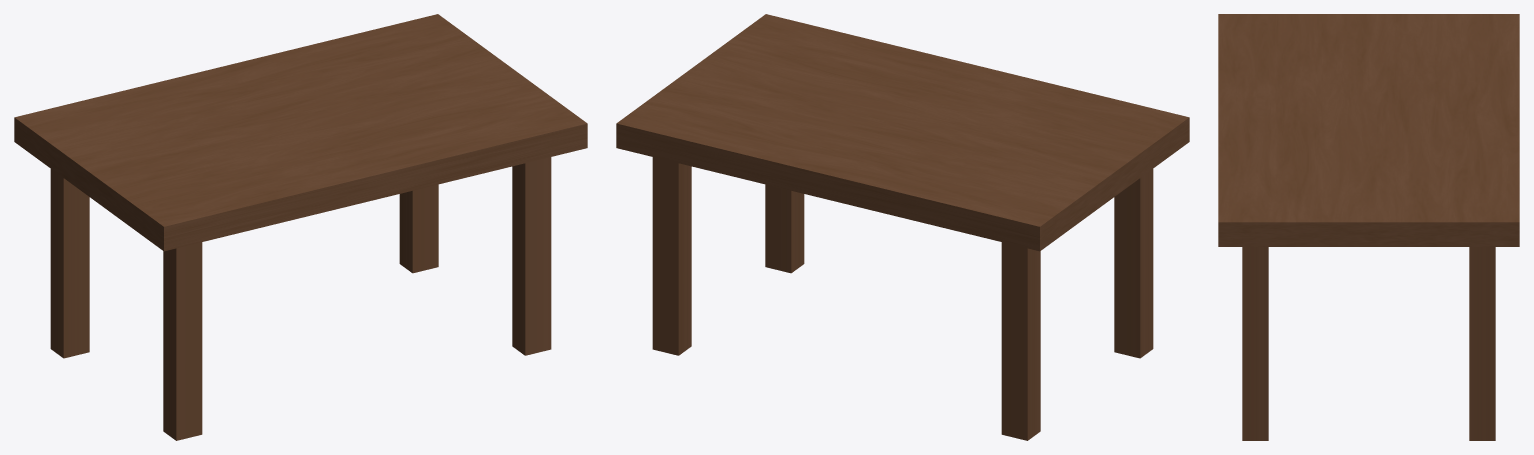
File: table_below_radio.fbx
3 views of the same model, side by side, from view 1: azimuth 30°, elevation 25°; view 2: azimuth 150°, elevation 25°; view 3: azimuth 270°, elevation 25° (orthographic).
Visible parts, largest first — view 1: Table below radio; view 2: Table below radio; view 3: Table below radio.
Boxes of the visible parts, x1,y1,x2,y2 form: Table below radio: [14, 14, 587, 440]; Table below radio: [616, 14, 1189, 440]; Table below radio: [1218, 14, 1519, 440].
Bounding box in the file's own units: 116 × 60 × 71.1.
Materials: 1 (1 with a texture image).
